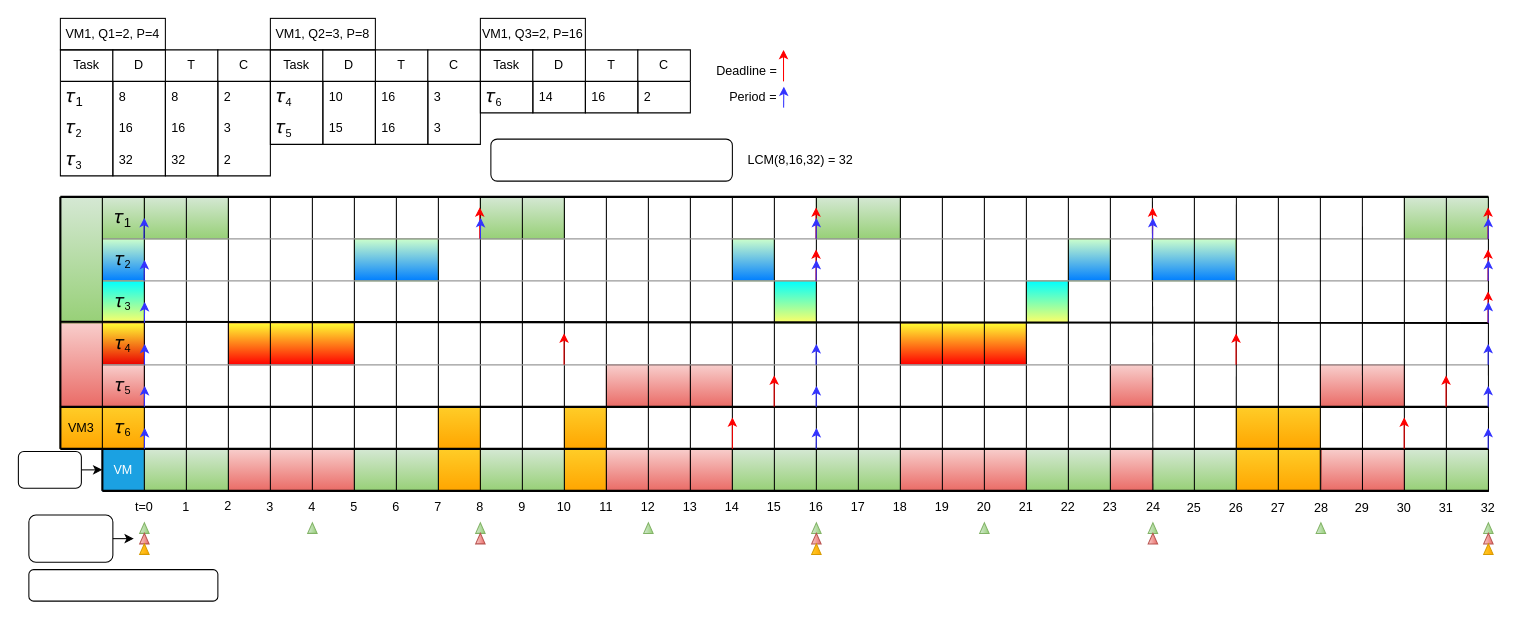
This 1517x620 diagram has some shape labels left out. The shapes that lost their labels are listed below. From the top down, each one's centre as x and y in pixels, then its label:
At (x=611, y=159): "Deadline Monotonic Scheduling (Locally) EDF scheduling (Globally)".
At (x=80, y=259): "VM1".
At (x=80, y=364): "VM2".
At (x=49, y=469): "Global scheduling".
At (x=70, y=538): "Periods of VM Budgets".
At (x=123, y=585): "Assumption: Period = Deadline".
